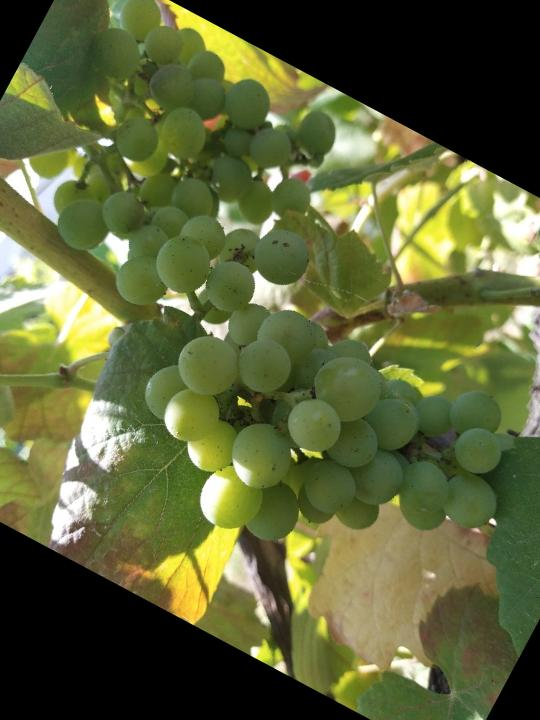grape: (101, 249, 540, 641), (26, 79, 348, 371)
